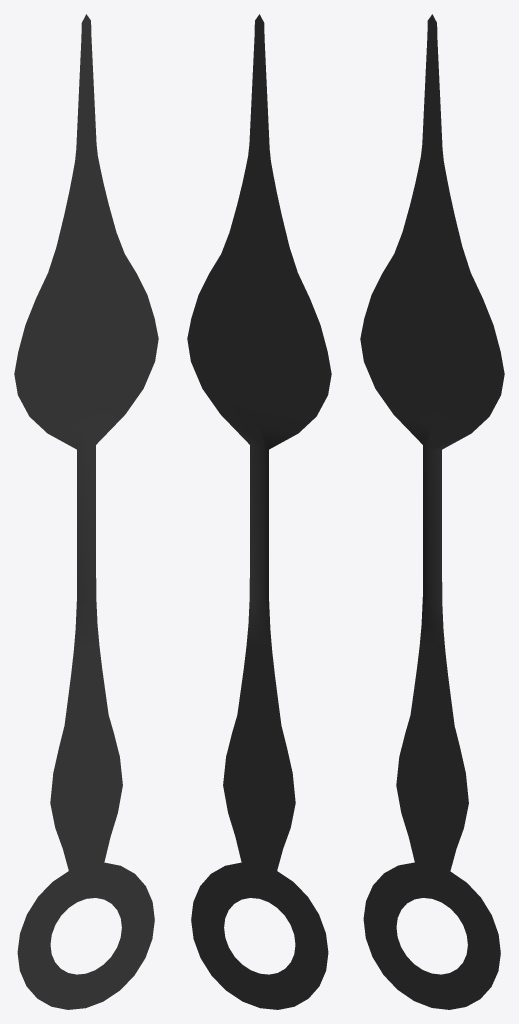
File: hour_hand.gltf
The picture shows the model from 3 angles, left to right: view 1: azimuth 30°, elevation 25°; view 2: azimuth 150°, elevation 25°; view 3: azimuth 330°, elevation 25°; orthographic projection.
Parts seen in each view (by area): view 1: hour; view 2: hour; view 3: hour.
Part boxes in pixels (x1,y1,x2,y2): hour: (14, 14, 158, 1009); hour: (187, 14, 331, 1009); hour: (360, 14, 504, 1009).
Bounding box in the file's own units: 0.017 × 0.1117 × 0.000731.
1 material, 1 textured.
